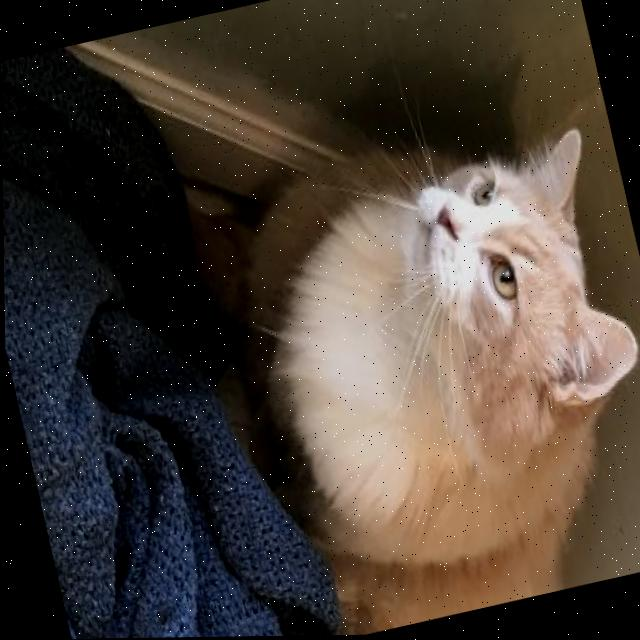Maine Coon: (186, 95, 640, 638)
